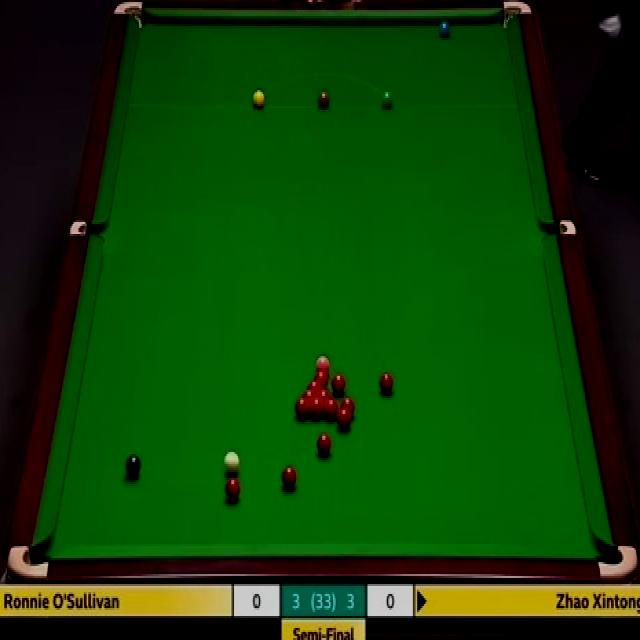pocket: (597, 543, 639, 585), (6, 542, 49, 578), (500, 0, 532, 32), (112, 0, 147, 29), (70, 221, 106, 237), (541, 220, 576, 235)
